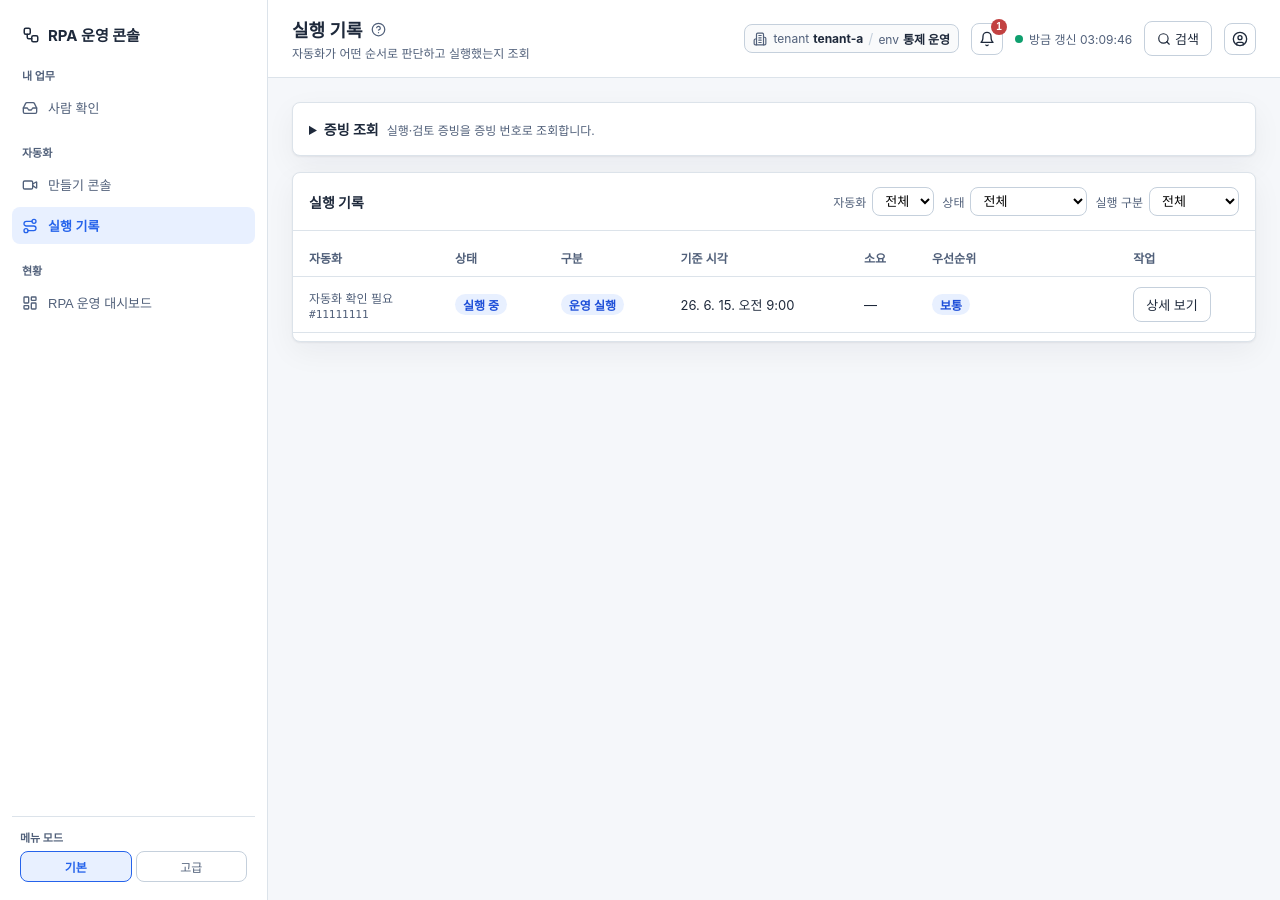
D7 운영 콘솔 a11y (axe) › 실행 상세 단계 트레이스(카드+표) axe 위반 없음
This screenshot has width=1280, height=900.
Click the button with aria-label "실행 추적 상세 보기": (1172, 304) top-left (1133, 287), bottom-right (1211, 322)
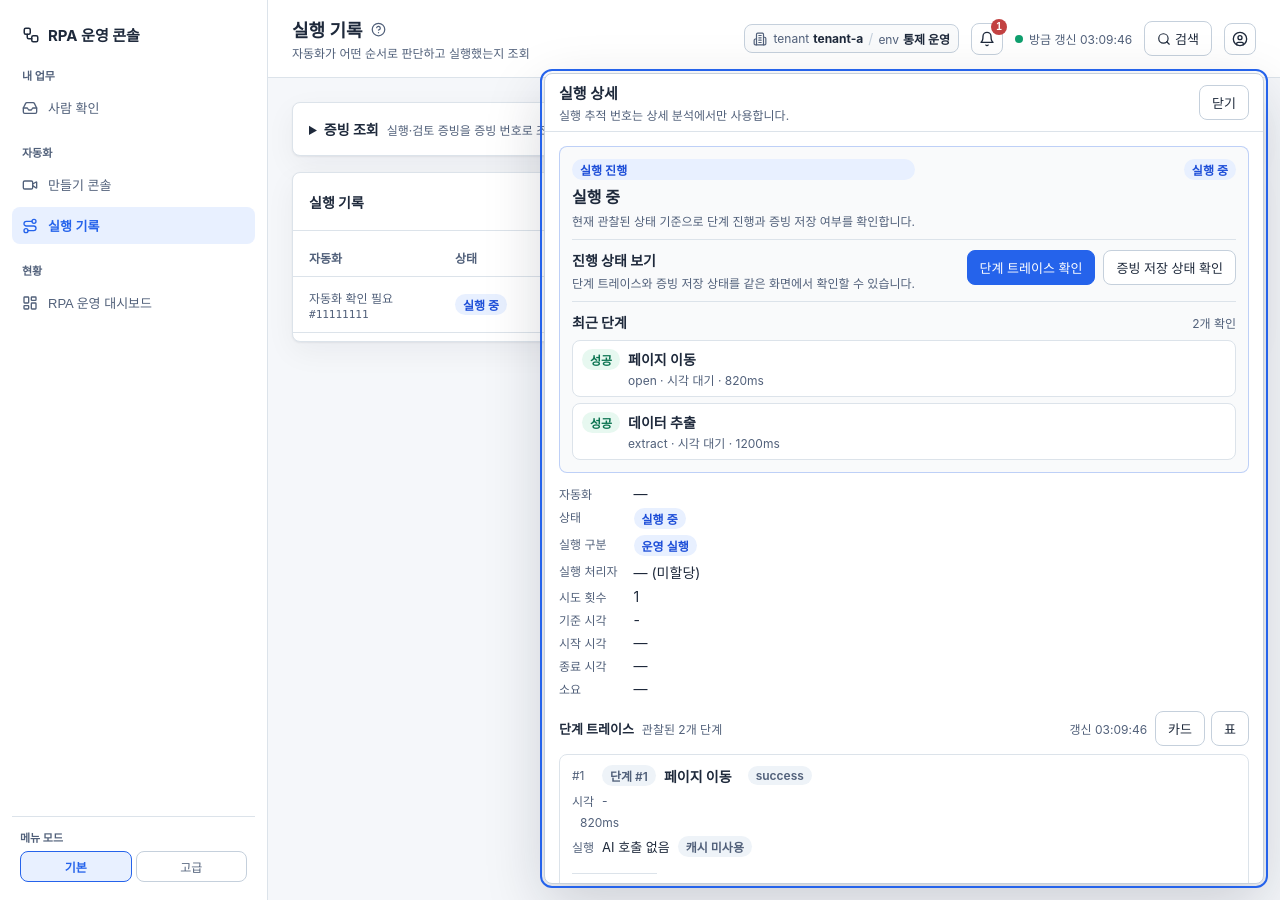
Expected: the button "카드" is shown, top-left (1155, 711), bottom-right (1205, 746)
Click the button "표": (1230, 728) top-left (1211, 711), bottom-right (1249, 746)
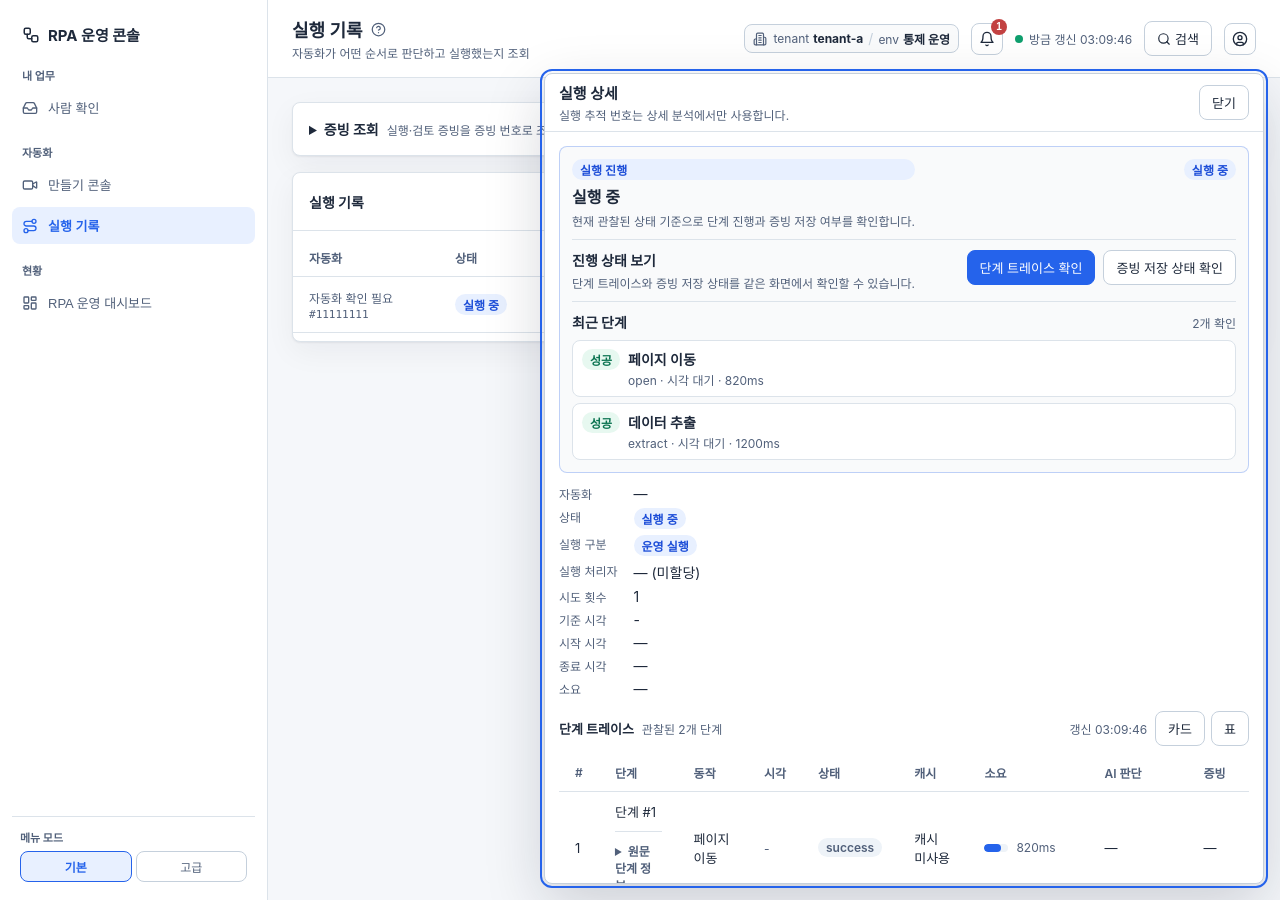
Expected: the column heading "AI 판단" is shown, top-left (1088, 754), bottom-right (1187, 792)
